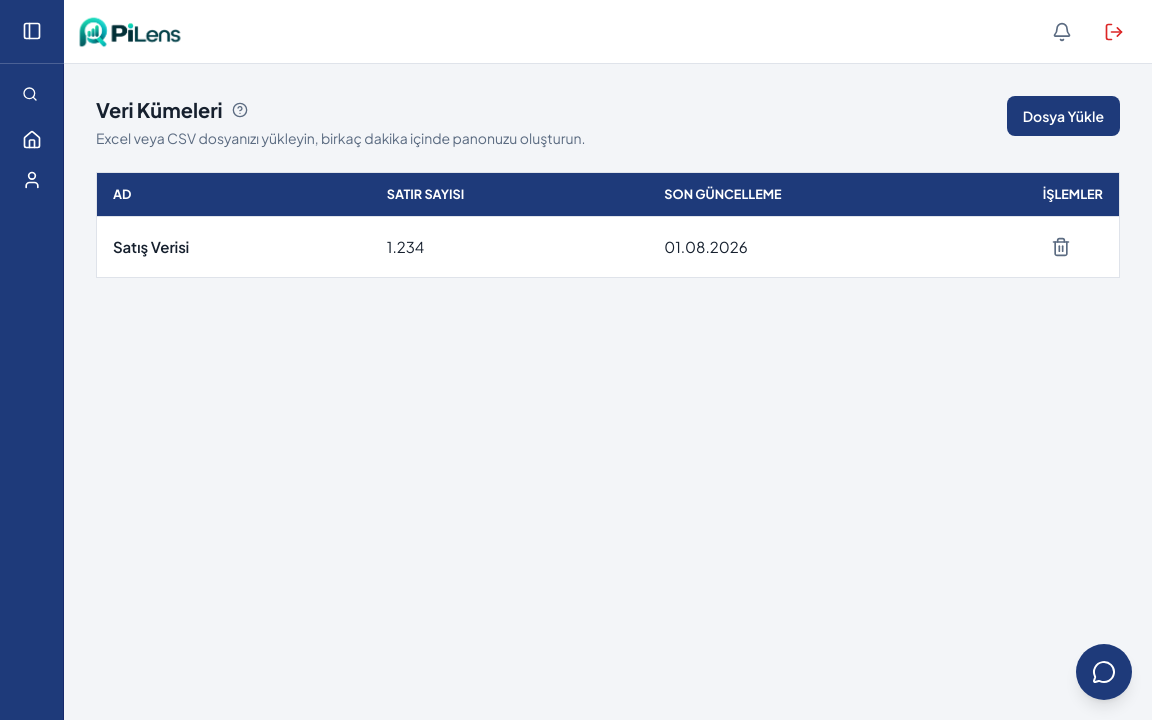
DatasetsListPage › sil butonu onay sonrasi veri kumesini siler ve listeyi yeniler
This screenshot has width=1152, height=720.
expect the text "Satış Verisi" is shown: met, box [113, 237, 189, 256]
Click the button named "Sil". click: (1061, 247)
box: [1043, 229, 1079, 265]
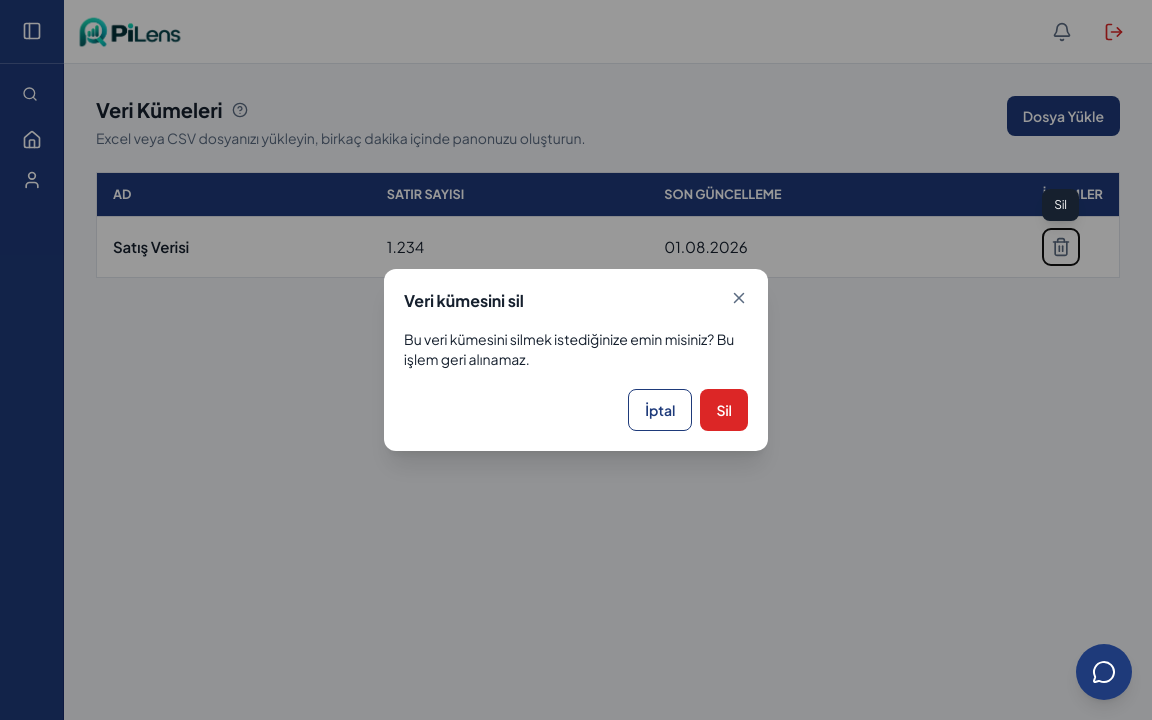
Click the button "Sil". click: (724, 410)
box: [700, 389, 748, 431]
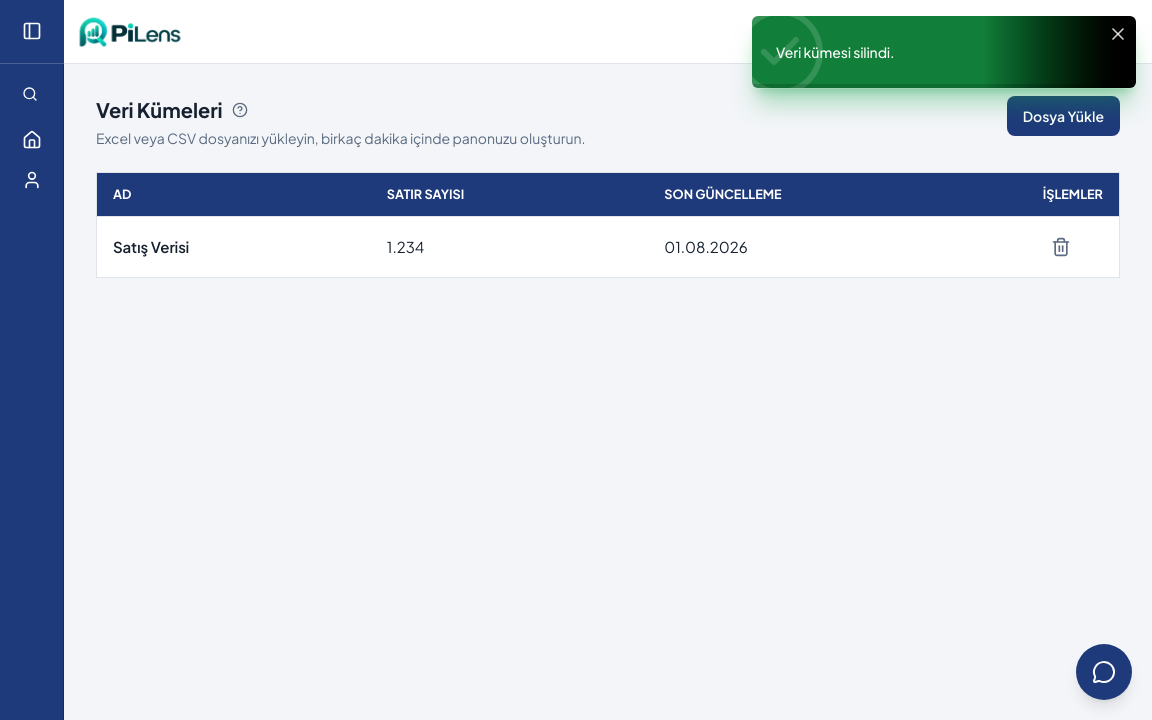
expect the text "Veri kümesi silindi." is shown: met, box [776, 43, 894, 61]
